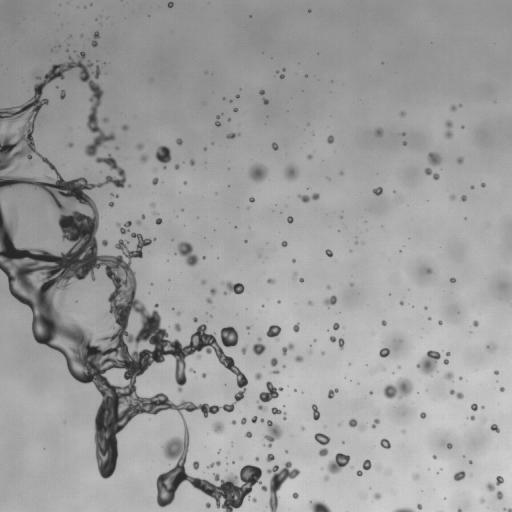droplet: (382, 377, 412, 399), (416, 350, 440, 375), (177, 242, 198, 266), (259, 381, 282, 402), (327, 453, 350, 473), (265, 420, 282, 446), (220, 326, 238, 347), (155, 146, 171, 168), (314, 433, 329, 456), (249, 164, 267, 181), (224, 281, 244, 294), (253, 337, 265, 355), (284, 165, 298, 180), (266, 325, 281, 339), (117, 221, 131, 234), (428, 152, 441, 165), (324, 295, 336, 306), (453, 470, 465, 481), (213, 421, 223, 433), (380, 438, 390, 449), (328, 388, 338, 398), (379, 348, 390, 357), (362, 459, 371, 470), (444, 371, 453, 380), (372, 187, 382, 195), (490, 424, 499, 432), (266, 454, 274, 462), (486, 344, 495, 351), (258, 404, 267, 411), (375, 128, 382, 136), (325, 249, 332, 257), (295, 355, 303, 362), (270, 358, 277, 366), (293, 323, 299, 332), (140, 155, 147, 162), (327, 135, 333, 143), (272, 142, 278, 150), (174, 323, 180, 331), (333, 322, 339, 330), (193, 461, 199, 469), (496, 491, 502, 499), (60, 90, 65, 99), (176, 138, 182, 145), (152, 177, 158, 184), (287, 216, 293, 223), (155, 218, 162, 224), (210, 288, 216, 295), (471, 403, 477, 410), (251, 416, 257, 423), (245, 431, 252, 437), (373, 493, 380, 499), (267, 278, 275, 283), (122, 124, 128, 130), (137, 143, 143, 149), (457, 157, 463, 163), (206, 297, 212, 303), (255, 373, 261, 379), (420, 412, 426, 418), (356, 470, 362, 476), (292, 492, 298, 498), (241, 346, 246, 353), (263, 98, 268, 104), (215, 120, 220, 126), (461, 195, 466, 201), (102, 240, 107, 246), (281, 241, 287, 246), (473, 320, 478, 326), (241, 418, 246, 424), (168, 2, 173, 7), (259, 90, 264, 95), (451, 105, 456, 110), (400, 111, 405, 116), (174, 164, 179, 169), (249, 197, 254, 202), (450, 277, 455, 282), (381, 320, 386, 325), (447, 443, 452, 448), (413, 474, 418, 479), (417, 504, 422, 509), (190, 159, 194, 165), (469, 416, 475, 420), (206, 502, 210, 508), (271, 370, 278, 373), (307, 154, 311, 159), (426, 269, 431, 273), (193, 317, 197, 322), (438, 320, 442, 325), (231, 420, 236, 424), (324, 475, 328, 480), (480, 498, 484, 503), (280, 74, 284, 78), (103, 118, 107, 122), (68, 143, 72, 147), (481, 183, 485, 187), (470, 185, 474, 189), (450, 195, 454, 199), (109, 202, 113, 206), (151, 203, 155, 207), (141, 215, 145, 219), (136, 220, 140, 224), (299, 278, 303, 282), (201, 280, 205, 284), (308, 301, 312, 305), (197, 355, 201, 359), (190, 368, 194, 372), (494, 370, 498, 374), (202, 373, 206, 377), (500, 387, 504, 391), (327, 285, 330, 289), (432, 455, 436, 458), (234, 108, 237, 111), (403, 142, 406, 145), (292, 259, 295, 262), (400, 301, 403, 304), (155, 304, 158, 307), (428, 317, 431, 320), (369, 391, 372, 394), (255, 457, 258, 460), (469, 460, 472, 463), (260, 419, 264, 421), (457, 509, 461, 511), (236, 95, 239, 97), (216, 116, 219, 118), (340, 172, 343, 174), (184, 181, 186, 184), (114, 195, 117, 197), (294, 272, 296, 275), (247, 326, 249, 329), (459, 377, 462, 379), (481, 406, 484, 408), (37, 77, 39, 79), (154, 212, 156, 214), (278, 301, 280, 303), (424, 307, 426, 309), (177, 313, 179, 315), (321, 352, 323, 354), (398, 366, 400, 368), (302, 427, 304, 429), (375, 467, 377, 469)
ligament: (0, 52, 289, 511), (485, 476, 503, 491), (309, 500, 331, 511), (348, 418, 365, 430), (298, 193, 319, 202), (330, 336, 344, 349), (271, 407, 286, 419), (424, 168, 439, 179), (282, 343, 294, 355), (449, 389, 463, 399), (445, 120, 452, 138), (312, 404, 319, 420), (92, 31, 99, 46), (207, 461, 220, 468), (444, 352, 450, 364), (372, 419, 379, 428), (393, 508, 414, 511), (226, 133, 237, 138), (503, 508, 511, 511)
